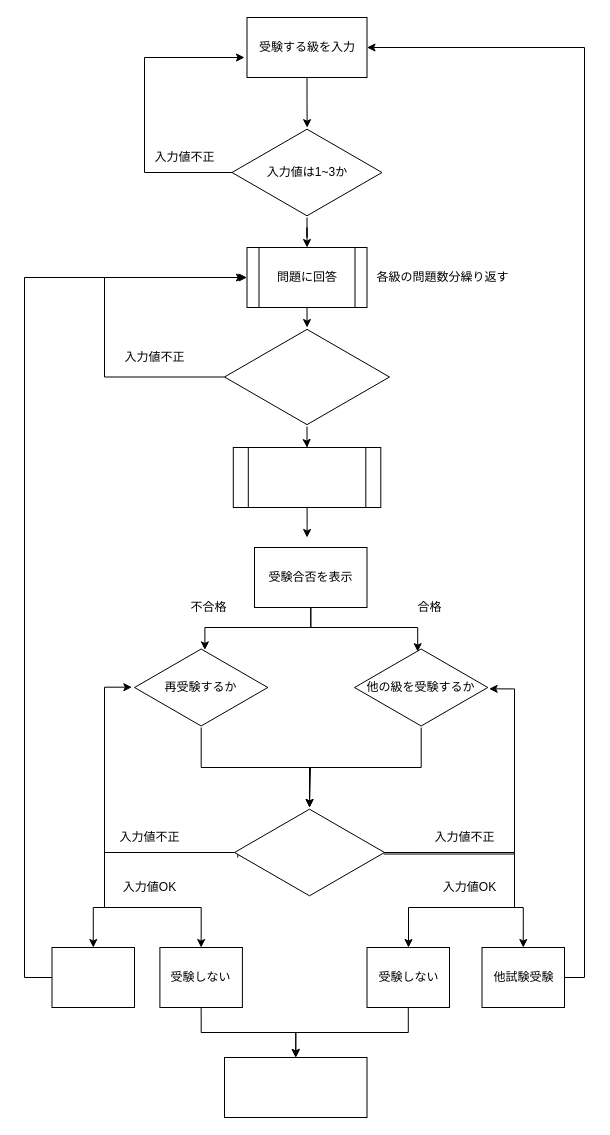
Some shapes in this 610 by 1135 pixel diagram are drawn without their labels. The shapes that lost their labels are listed below. From the top down, each one's centre as x and y in pixels, then its label:
At pixel 307 376: "入力値はA,B,Cか".
At pixel 306 477: "問題回答を完了".
At pixel 309 852: "入力値はY/Nか".
At pixel 92 977: "再受験".
At pixel 295 1087: "終了のメッセージを表示".
